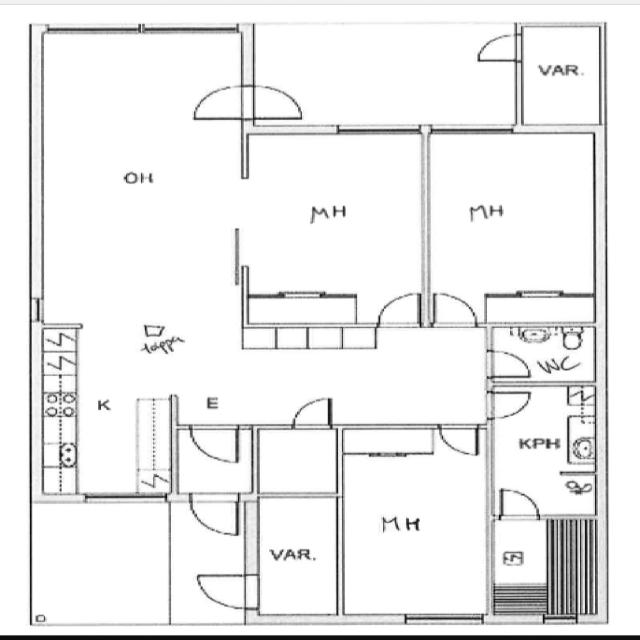door: (486, 379, 600, 518), (485, 336, 584, 382), (192, 572, 258, 614), (187, 492, 243, 539), (186, 424, 245, 466), (248, 81, 308, 122), (372, 290, 428, 331), (187, 82, 247, 120), (427, 290, 482, 331), (287, 394, 340, 431), (494, 485, 544, 523), (434, 422, 484, 458), (484, 347, 536, 380), (470, 30, 521, 63), (486, 388, 534, 421)
window: (230, 28, 262, 90), (247, 122, 345, 141), (80, 490, 166, 509), (403, 611, 481, 627), (489, 612, 546, 626), (543, 614, 577, 626)
zone: (36, 24, 244, 308), (240, 126, 426, 307), (424, 126, 597, 303), (336, 430, 492, 620), (219, 326, 497, 427), (250, 24, 518, 127), (28, 494, 172, 628), (488, 382, 599, 518), (489, 518, 611, 616), (249, 489, 340, 618), (519, 22, 601, 127), (487, 325, 602, 382), (252, 428, 341, 496)
